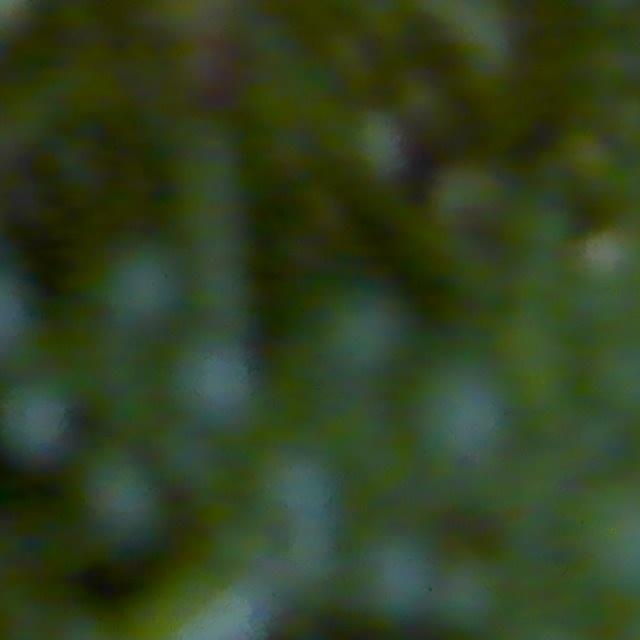SeaGrape: (292, 270, 404, 391), (401, 361, 500, 465), (166, 329, 263, 434), (66, 452, 161, 553), (353, 528, 440, 622), (256, 442, 341, 522), (107, 238, 179, 327), (431, 554, 509, 635), (429, 158, 510, 235), (178, 335, 251, 416), (0, 382, 74, 461), (575, 224, 640, 299)
